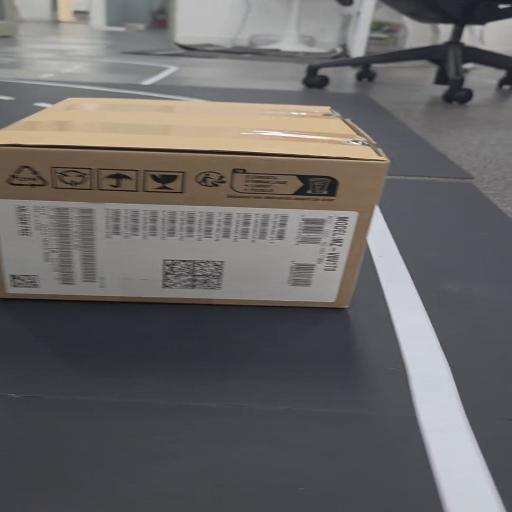Box: (6, 98, 388, 317)
